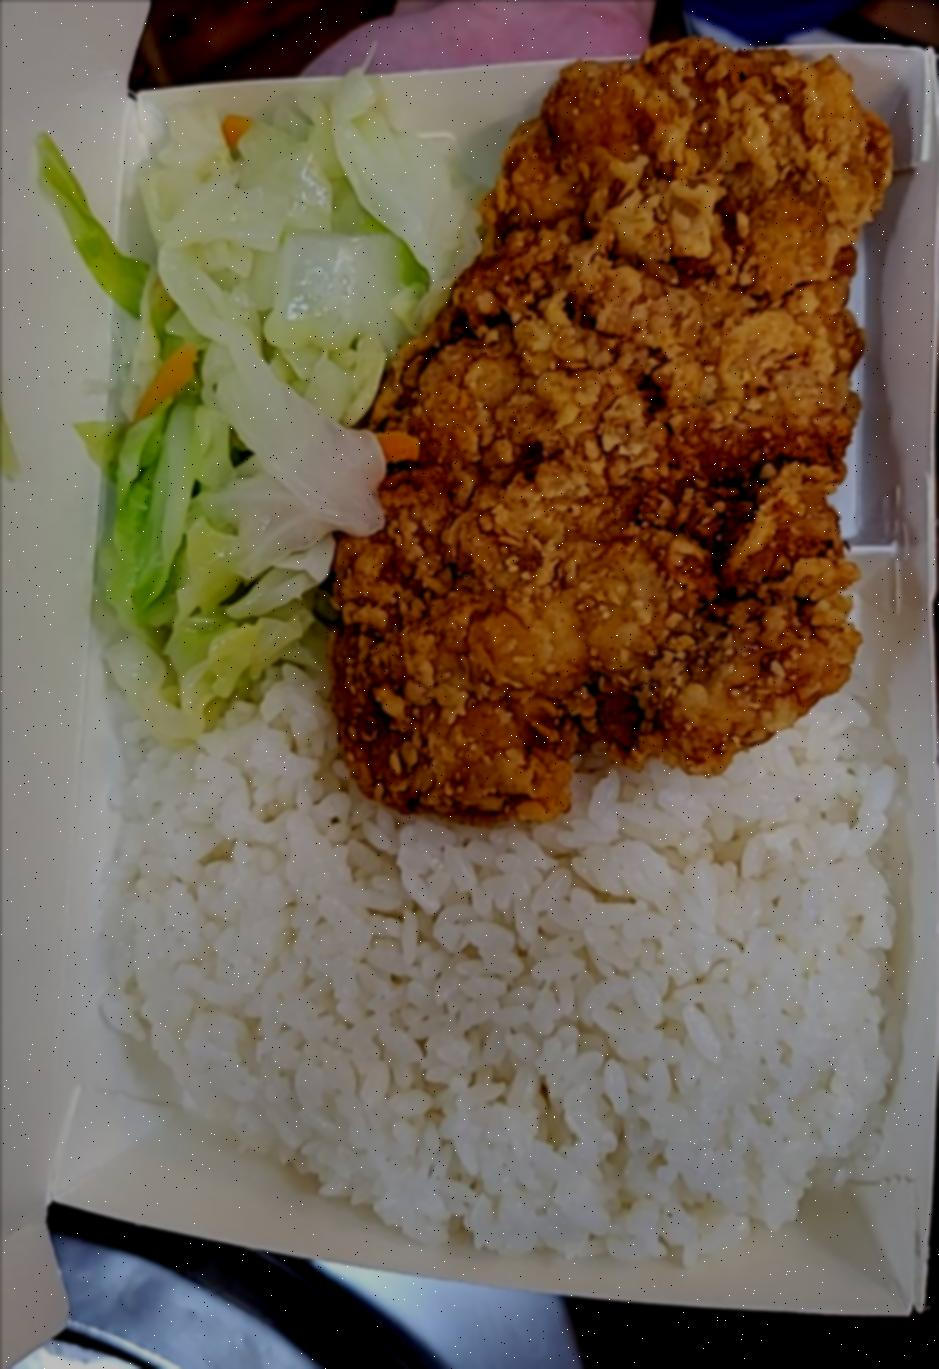box: (41, 14, 939, 1342)
kara chicken leg steak: (314, 24, 908, 833)
side dish: (67, 91, 421, 722)
white rice: (104, 622, 912, 1257)
